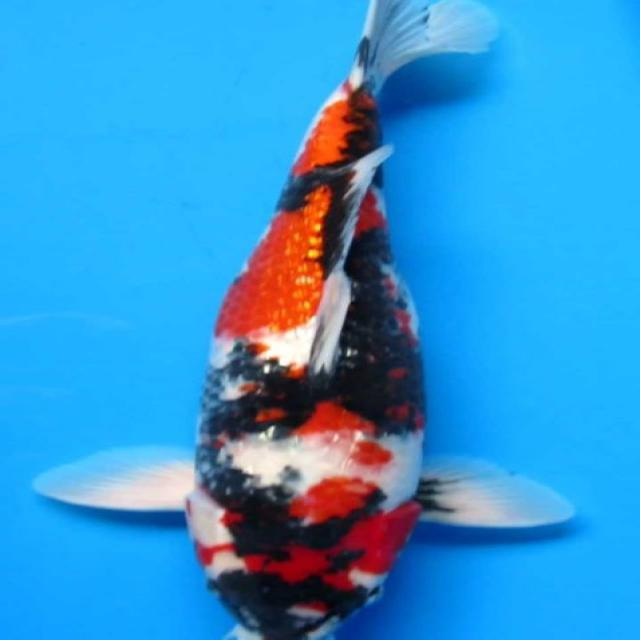Showa: (27, 0, 582, 640)
